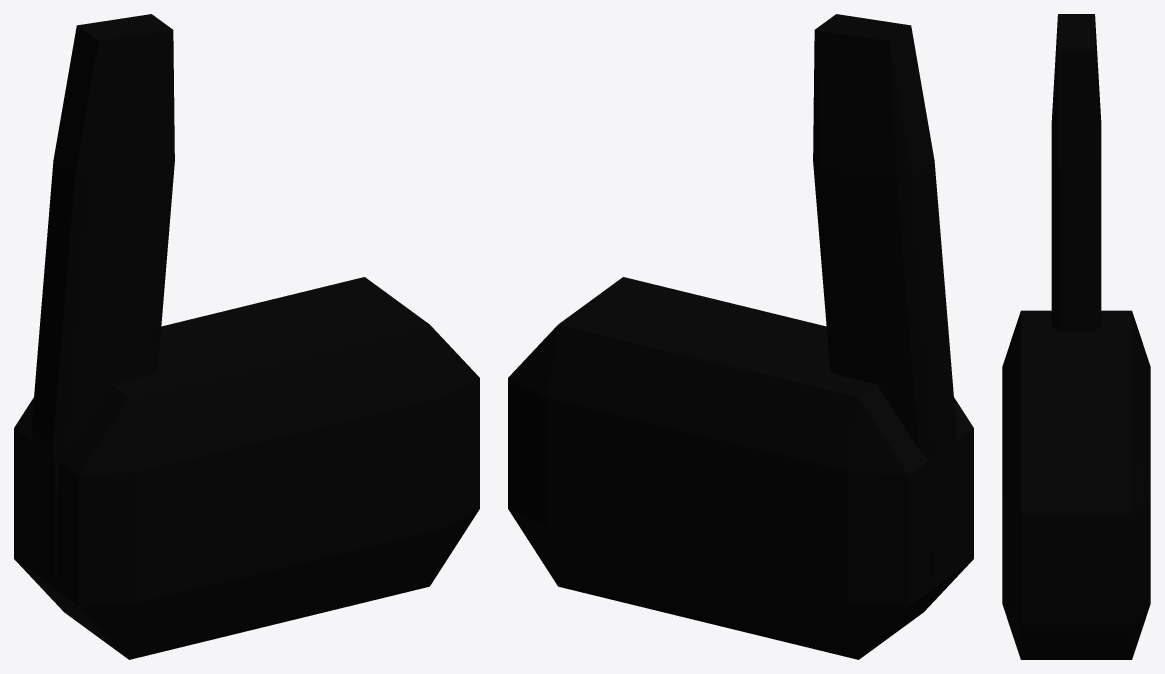
File: P6_GameDesign_Note2.fbx
3 renders of one model, left to right at view 1: azimuth 30°, elevation 25°; view 2: azimuth 150°, elevation 25°; view 3: azimuth 270°, elevation 25°, orthographic. The views are drawn at different scales.
Parts seen in each view (by area): view 1: beveled_cuboid, beveled_cuboid_1; view 2: beveled_cuboid, beveled_cuboid_1; view 3: beveled_cuboid, beveled_cuboid_1.
Part boxes in pixels (<box>): beveled_cuboid: <box>14,277,479,659</box>; beveled_cuboid_1: <box>31,14,174,573</box>; beveled_cuboid: <box>508,277,973,659</box>; beveled_cuboid_1: <box>813,14,956,573</box>; beveled_cuboid: <box>1002,310,1150,659</box>; beveled_cuboid_1: <box>1051,14,1101,331</box>.
Bounding box in the file's own units: 101 × 144 × 37.5.
Materials: 1 (1 with a texture image).
